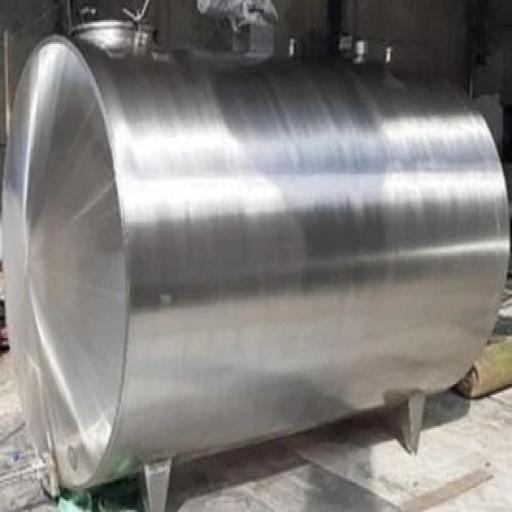silo: (2, 20, 510, 510)
